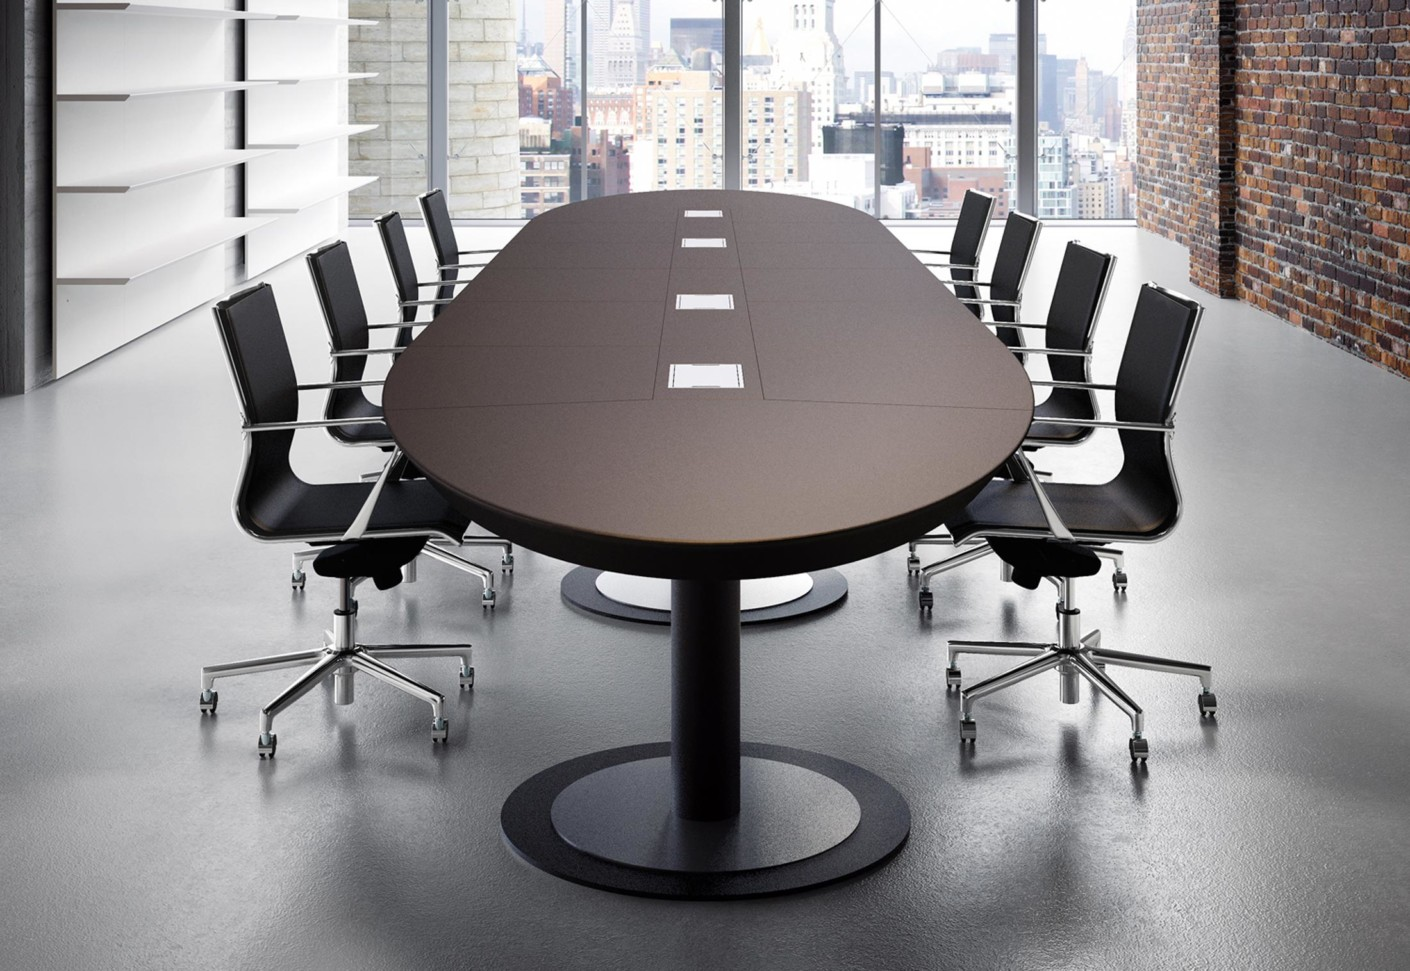conference_table: (381, 190, 1040, 901)
